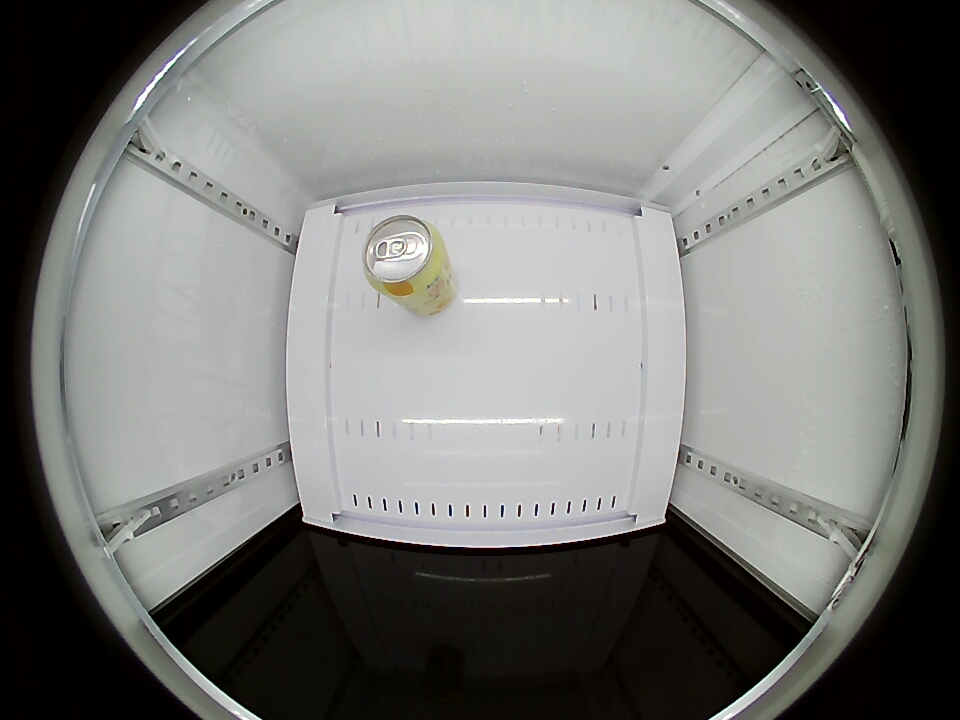mangguoxiaolao: (362, 214, 446, 298)
